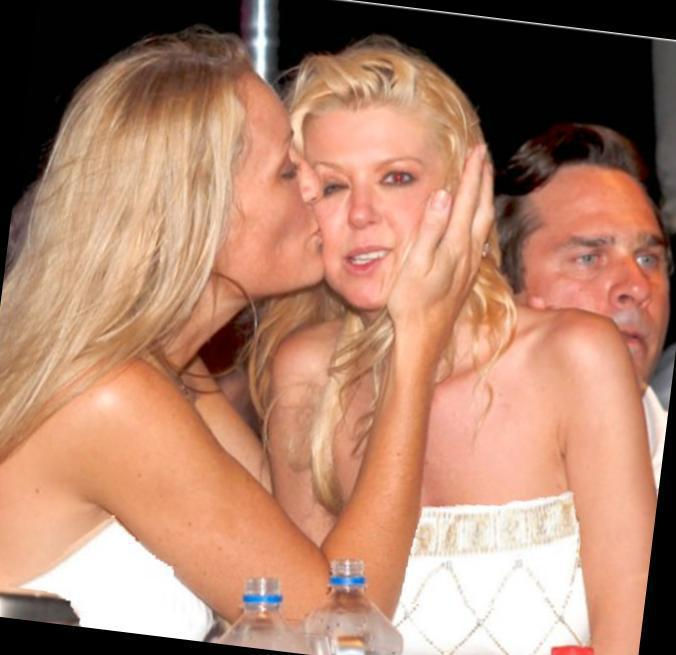Drunk: (302, 105, 451, 307), (532, 172, 673, 368)
